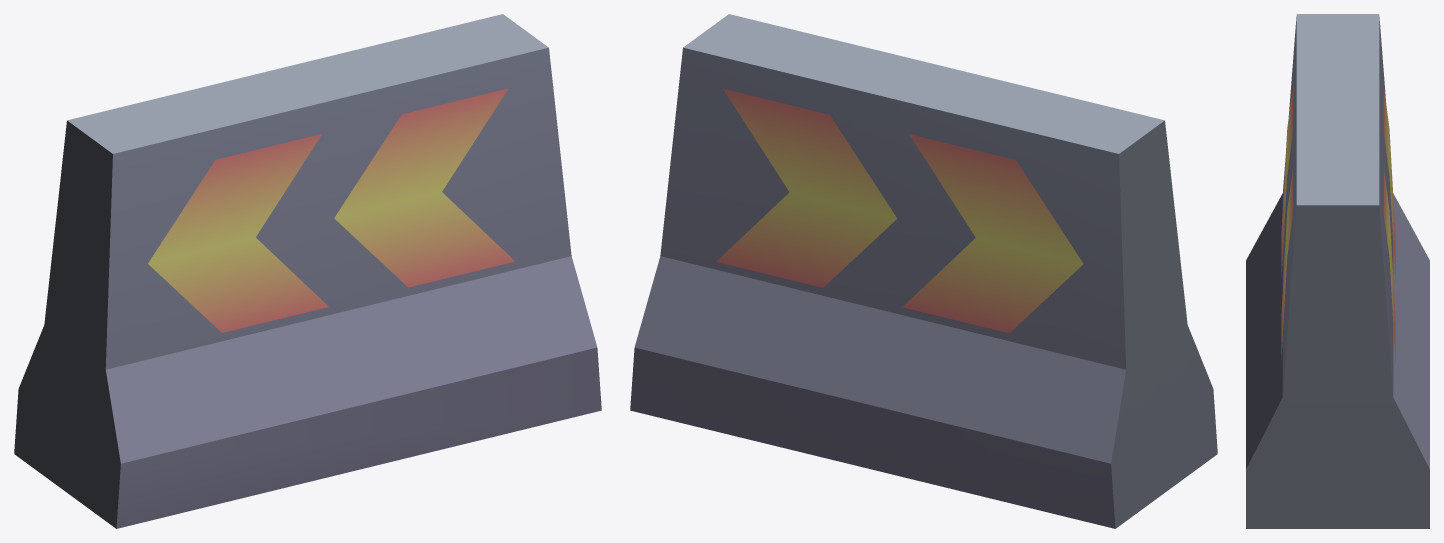
Rendered from race_barrier.glb.
3 views of the same model, side by side, from view 1: azimuth 30°, elevation 25°; view 2: azimuth 150°, elevation 25°; view 3: azimuth 270°, elevation 25° (orthographic). The views are drawn at different scales.
Parts seen in each view (by area): view 1: race_barrier; view 2: race_barrier; view 3: race_barrier.
Boxes of the visible parts, x1,y1,x2,y2 form: race_barrier: [14, 14, 601, 528]; race_barrier: [630, 14, 1217, 528]; race_barrier: [1246, 14, 1429, 528].
Bounding box in the file's own units: 0.4311 × 0.2956 × 0.1575.
